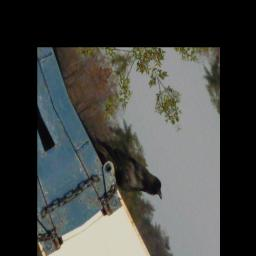Crow: (93, 114, 167, 223)
